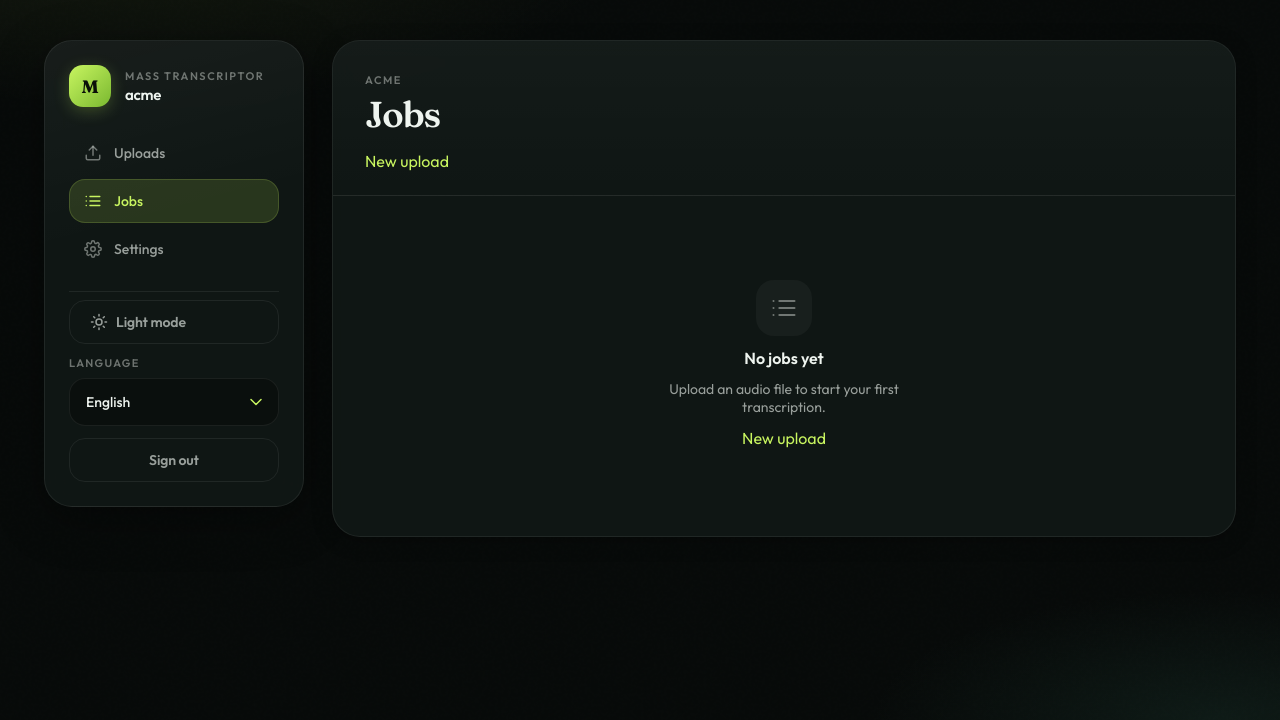
Scenario: sign out clears auth and redirects to signin
Click the button "Sign out": (174, 460) [69,438,279,482]
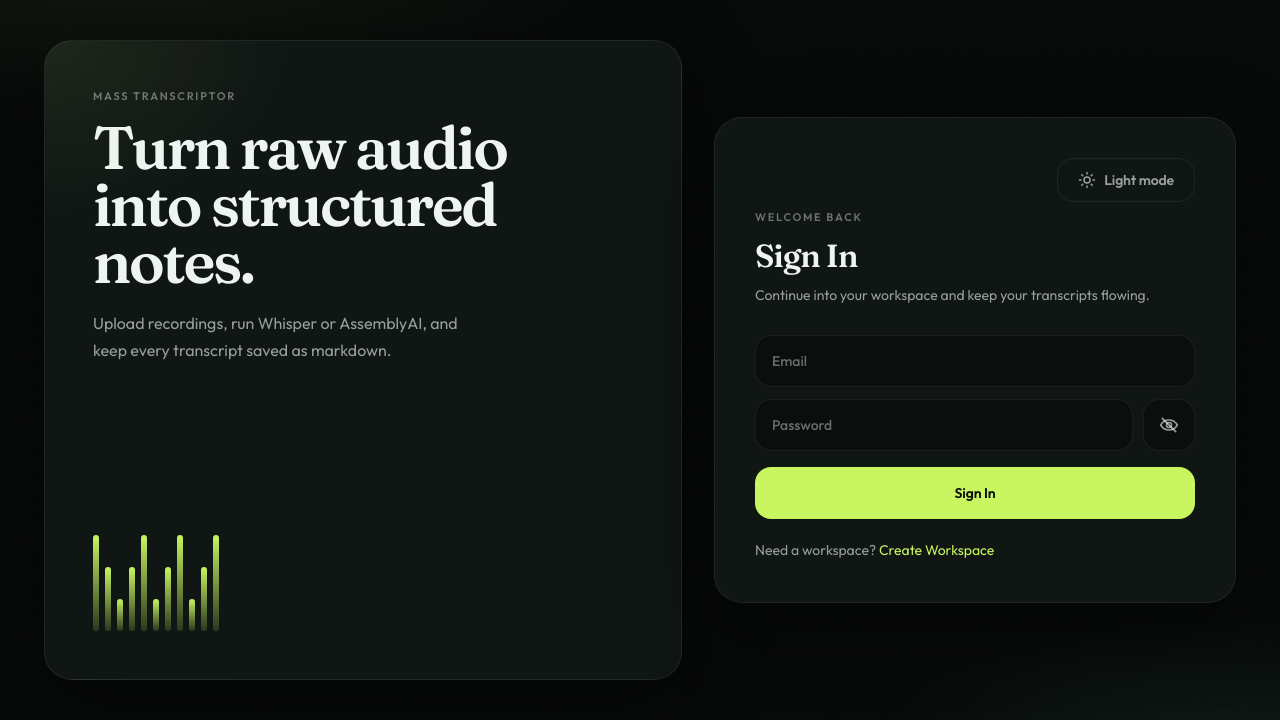
Result: the heading "Sign In" is shown at [755,236,858,275]
